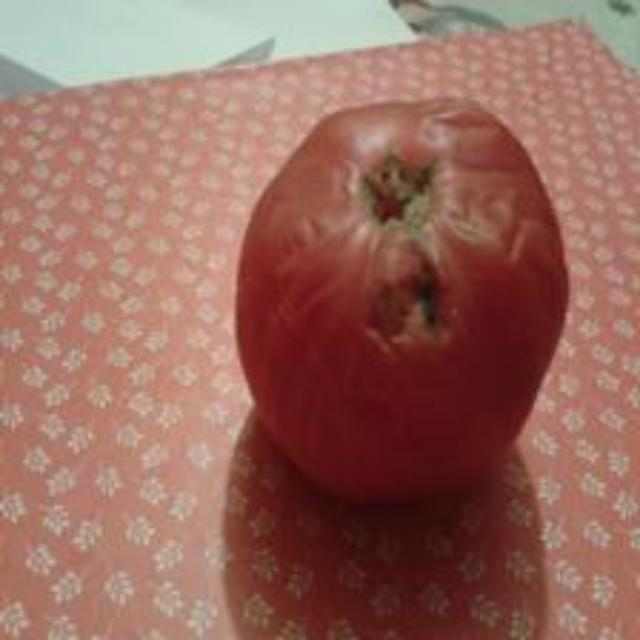defect: (232, 96, 573, 504)
